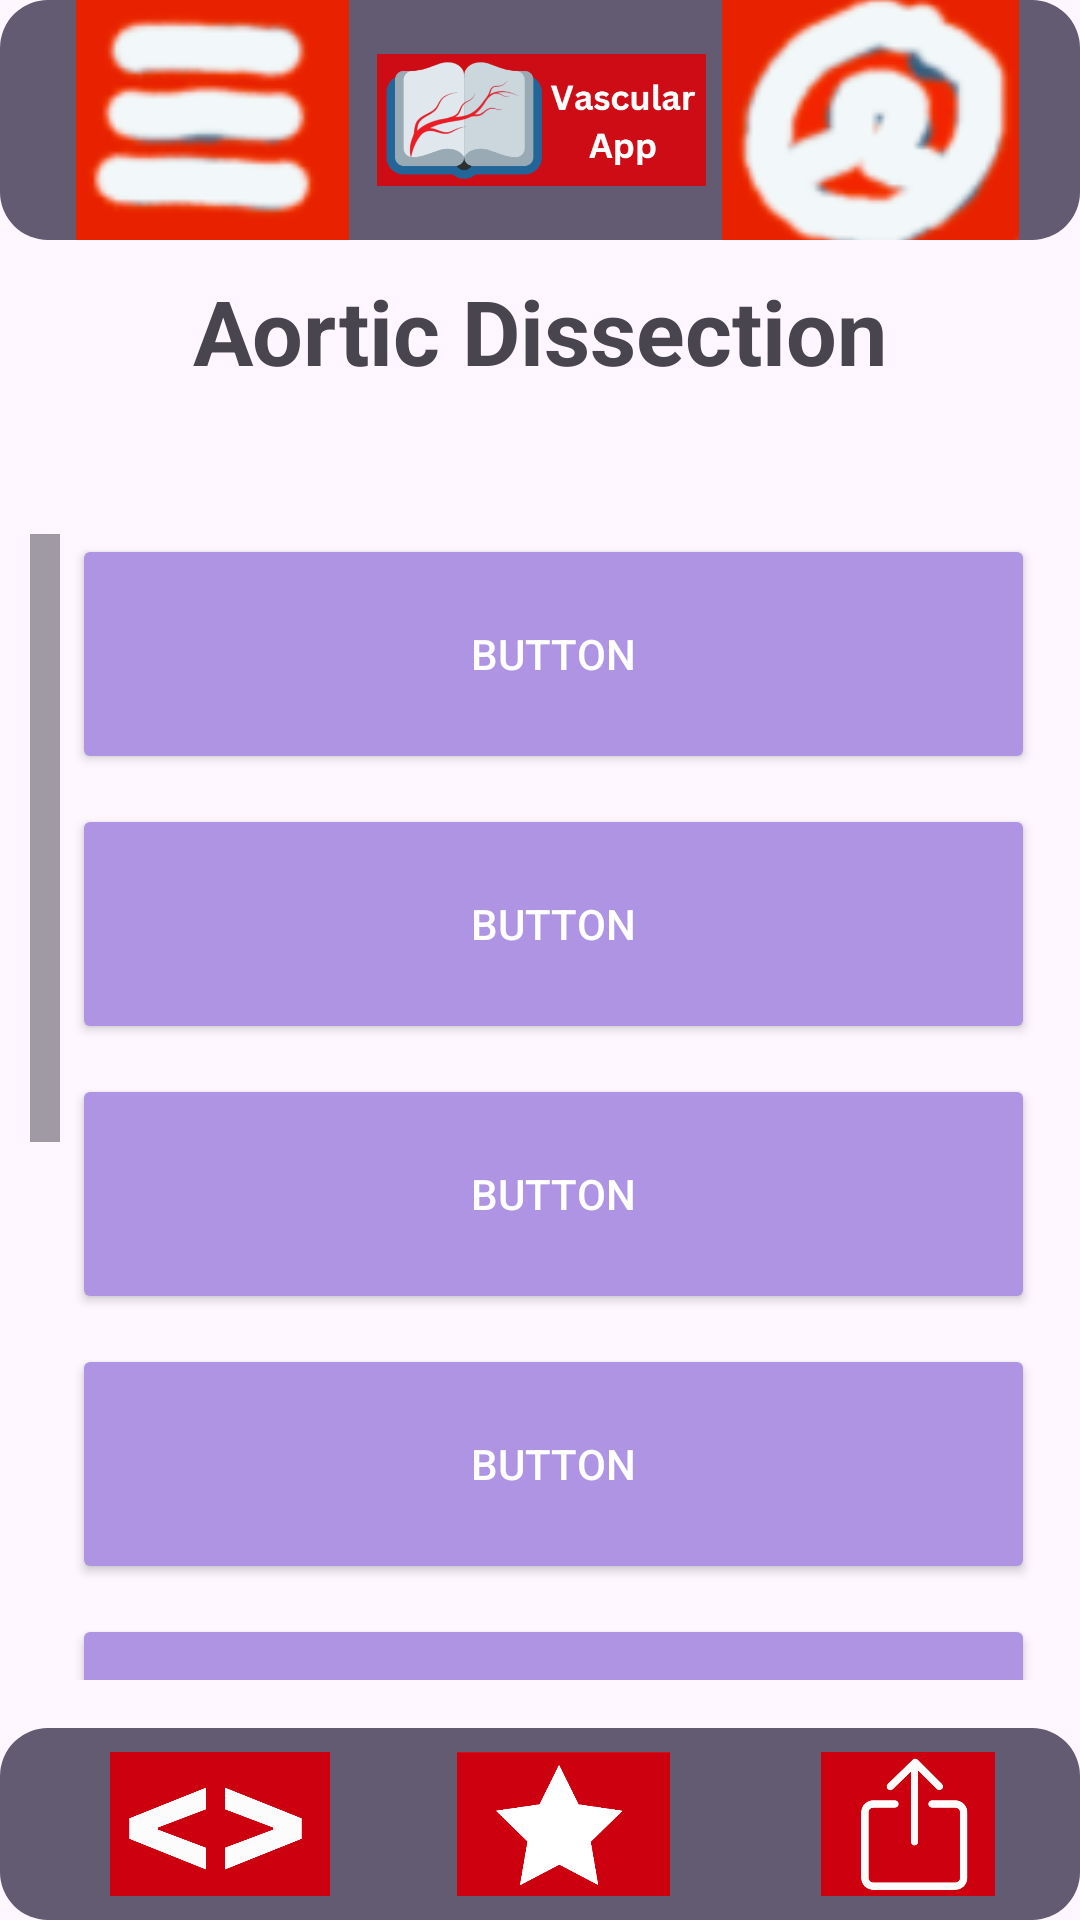

Where to tap for icons on this 1080px x 1920px app screen, as (x,y):
menu: (212,120)
